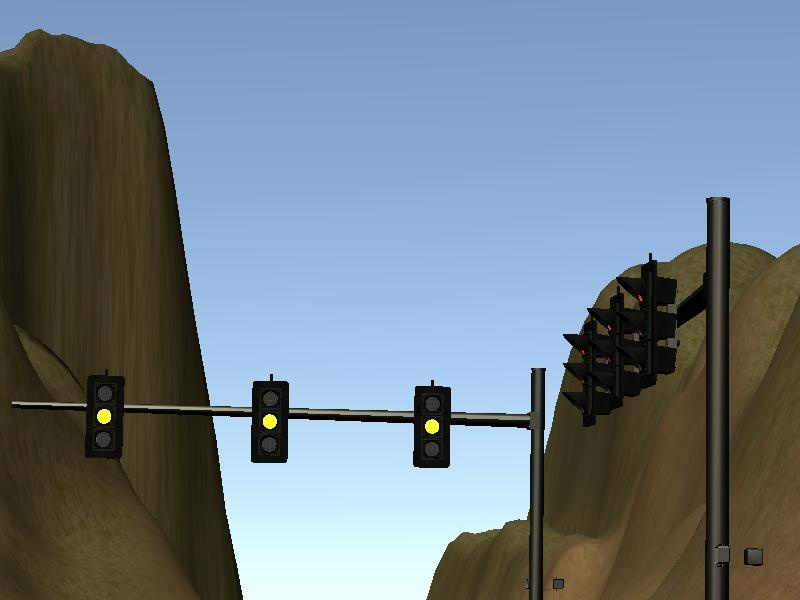YELLOW: (86, 374, 125, 459), (249, 378, 288, 463), (412, 384, 451, 469)
